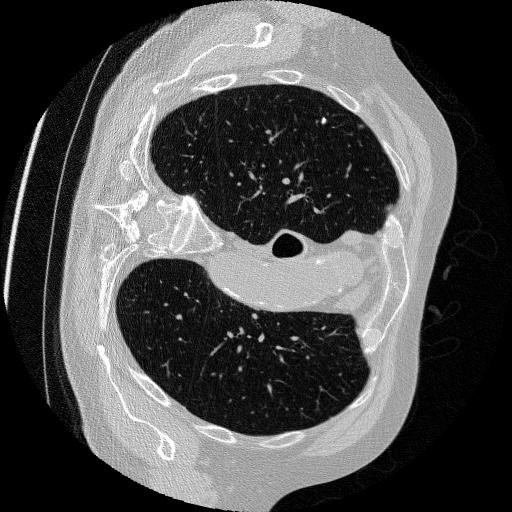nodule: (319, 115, 331, 127)
